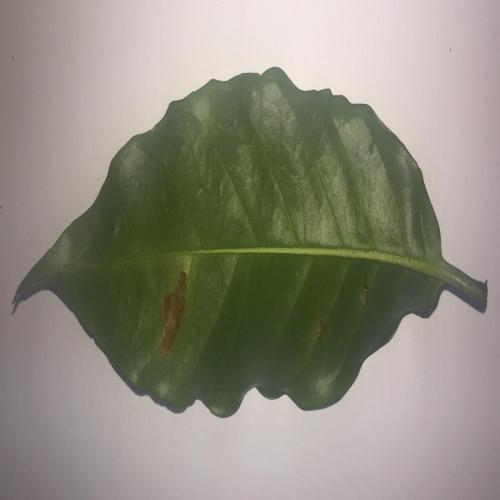leaf: (159, 270, 188, 357)
